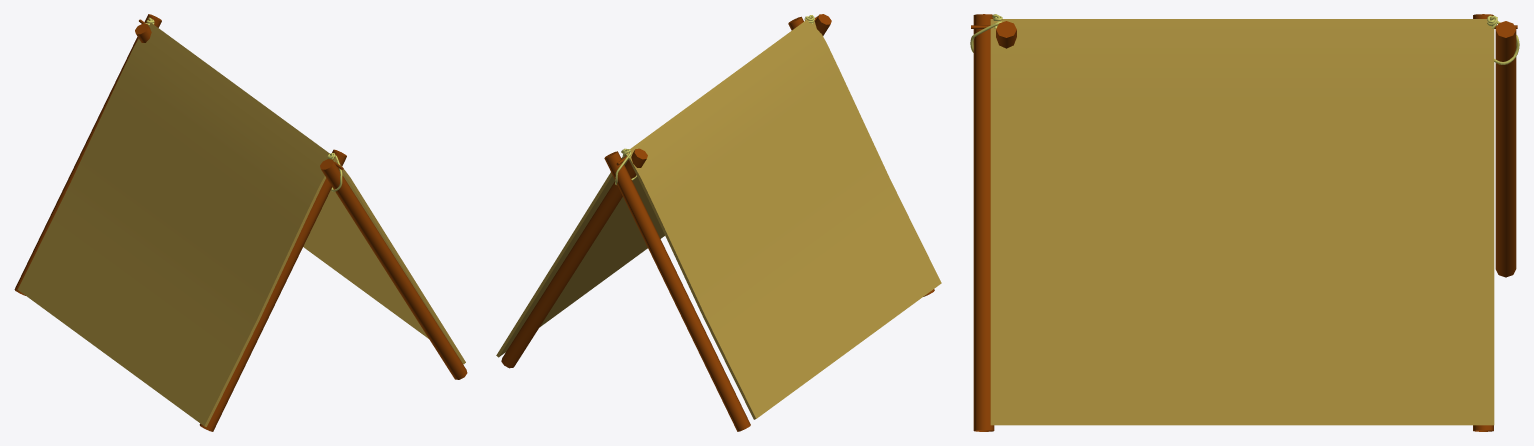
The model's file is Tent base.fbx.
3 views of the same model, side by side, from view 1: azimuth 30°, elevation 25°; view 2: azimuth 150°, elevation 25°; view 3: azimuth 270°, elevation 25° (orthographic). The views are drawn at different scales.
Visible parts, largest first — view 1: Cube, Post_3, Post_4, Post; view 2: Cube, Post, Post_2; view 3: Cube, Post_3, Post.
Boxes of the visible parts, x1,y1,x2,y2 form: Cube: [17, 23, 465, 426]; Post_3: [320, 159, 467, 379]; Post_4: [199, 149, 346, 431]; Post: [14, 14, 161, 295]; Cube: [496, 19, 941, 419]; Post: [604, 151, 750, 431]; Post_2: [501, 148, 647, 368]; Cube: [990, 19, 1494, 425]; Post_3: [973, 14, 994, 431]; Post: [1495, 21, 1516, 277].
Bounding box in the file's own units: 392 × 360 × 527.
